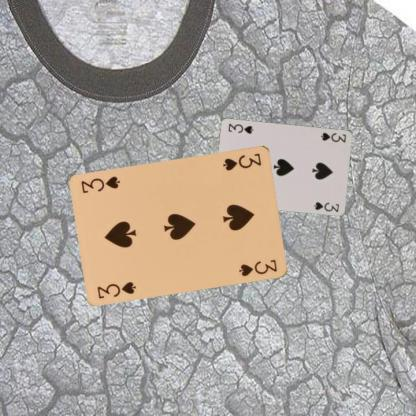3s: (220, 150, 263, 172), (95, 278, 138, 300), (318, 130, 348, 143)
